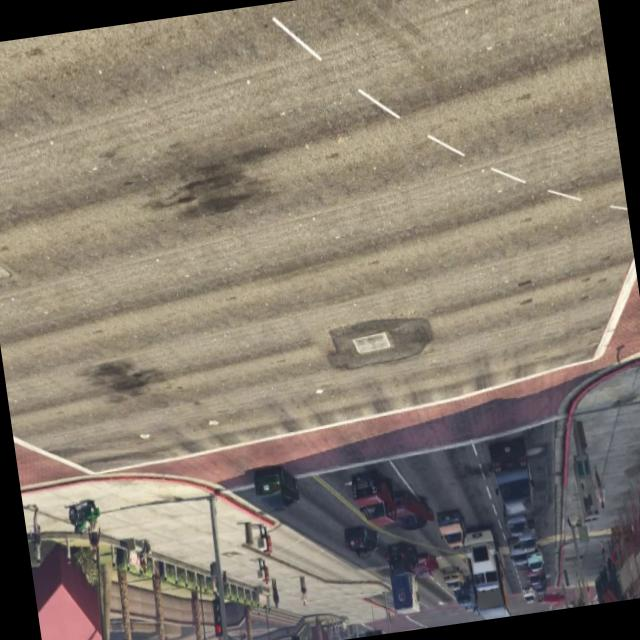Red-Signal: (206, 586, 227, 640), (287, 628, 303, 640)
